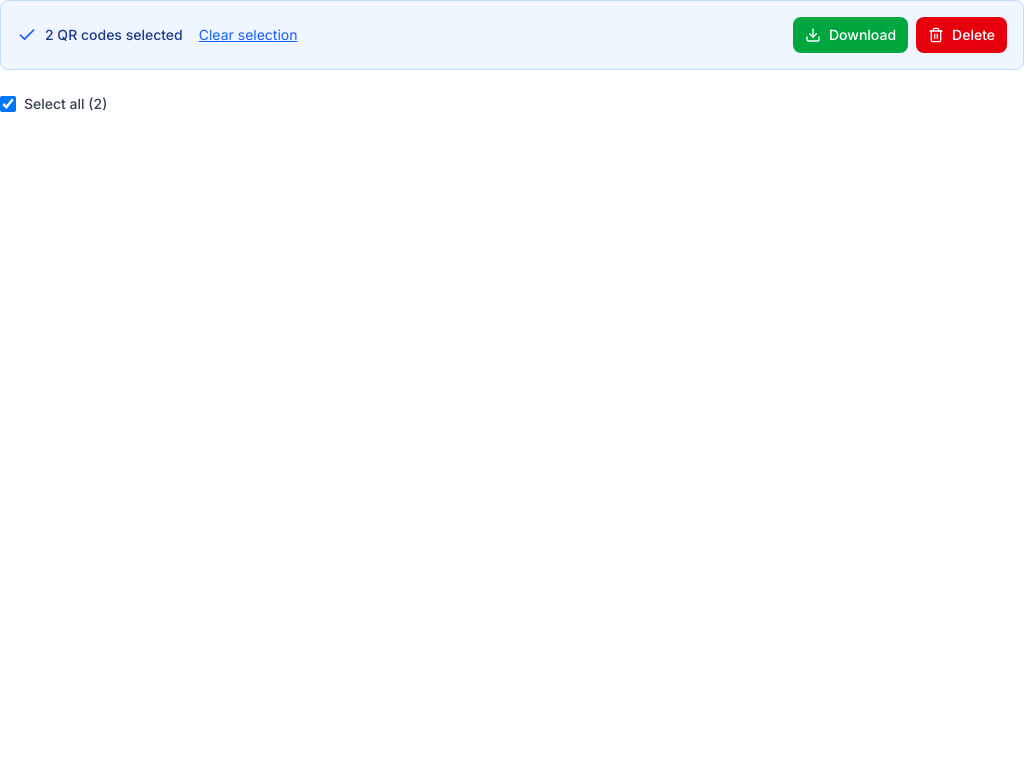
BulkOperations Component › shows delete confirmation modal
Click the button "Delete".
click(962, 35)  # box [916,17,1007,53]
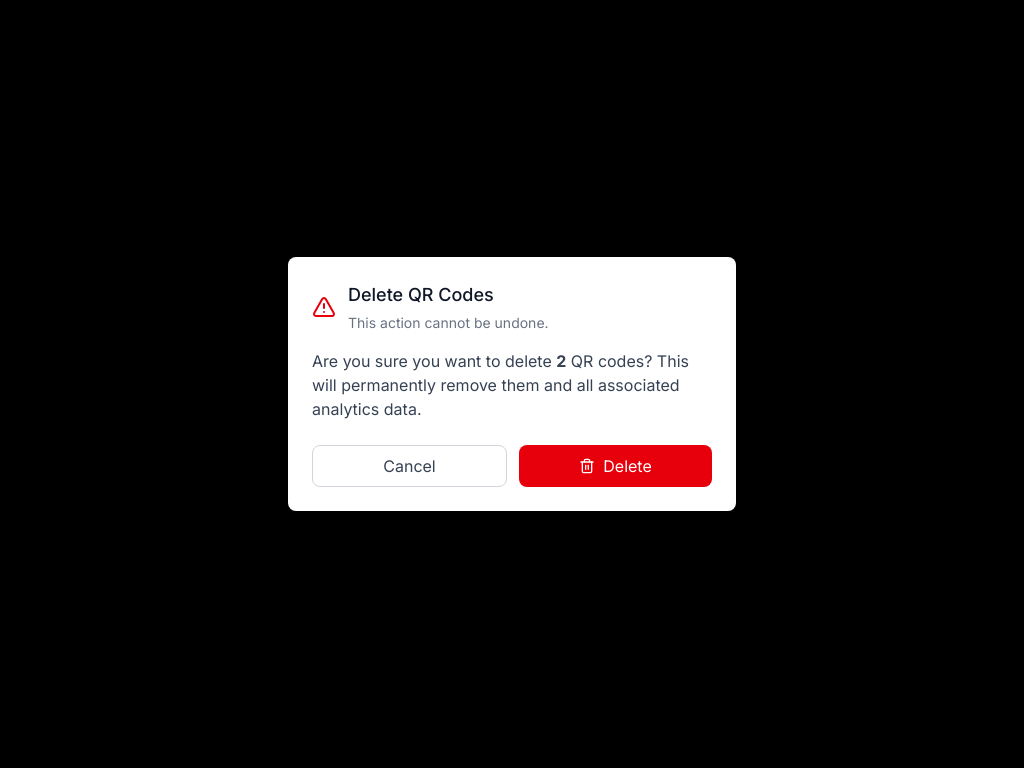
expect the heading "Delete QR Codes" is shown: met, box [348,284,494,305]
expect the text "This action cannot be undone." is shown: met, box [348,313,549,333]
